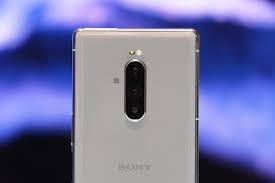sony: (69, 26, 200, 183)
